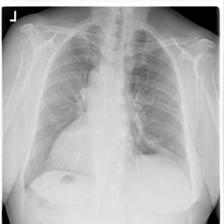tuberculosis: (20, 18, 198, 199)
